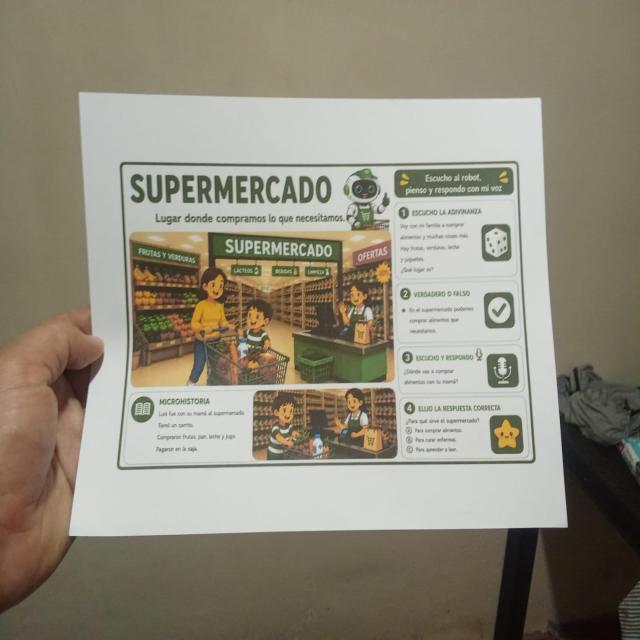supermercado: (113, 157, 539, 475)
